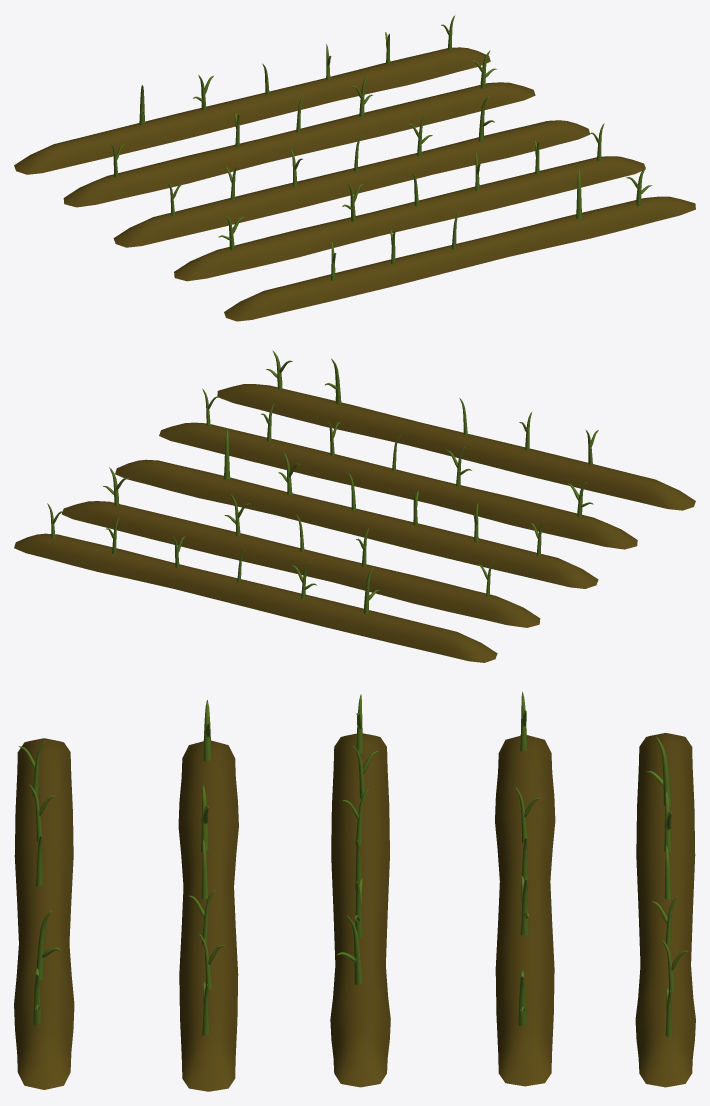
File: farm.glb
The picture shows the model from 3 angles, top to bottom: view 1: azimuth 30°, elevation 25°; view 2: azimuth 150°, elevation 25°; view 3: azimuth 270°, elevation 25°; orthographic projection. The views are drawn at different scales.
Visible parts, largest first — view 1: Farm_Dirt_Level2; view 2: Farm_Dirt_Level2; view 3: Farm_Dirt_Level2.
Boxes of the visible parts, <box> form: Farm_Dirt_Level2: <box>14,15,695,321</box>; Farm_Dirt_Level2: <box>14,350,695,662</box>; Farm_Dirt_Level2: <box>14,691,695,1091</box>.
Size of the model in its own units: 1.79 by 0.2209 by 1.44.
